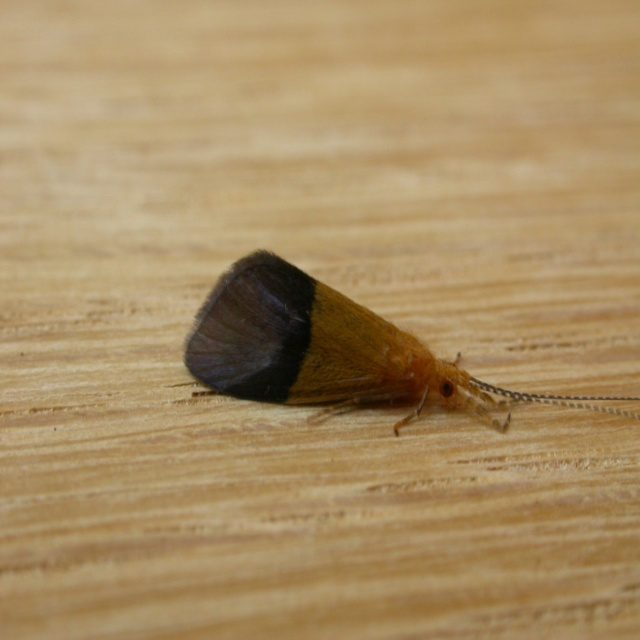Moths and butterflies: (166, 249, 640, 438)
